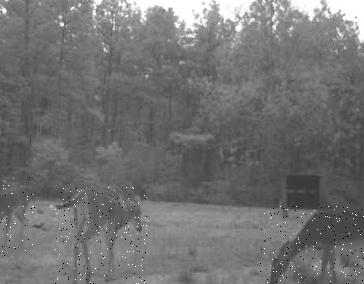Deer: (55, 187, 147, 284), (260, 206, 364, 284), (0, 176, 35, 256)
